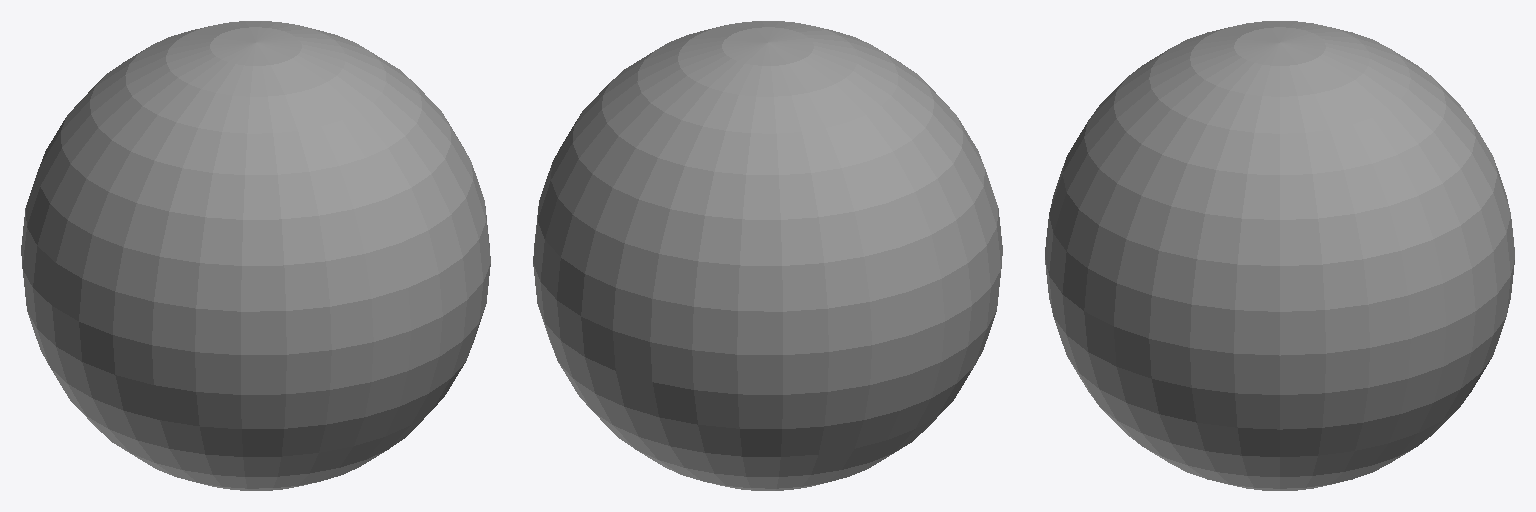
The model's file is theworld.obj.
The picture shows the model from 3 angles: view 1: azimuth 30°, elevation 25°; view 2: azimuth 150°, elevation 25°; view 3: azimuth 270°, elevation 25°; orthographic projection.
Parts seen in each view (by area): view 1: Sphere; view 2: Sphere; view 3: Sphere.
Boxes of the visible parts, x1,y1,x2,y2 form: Sphere: [21, 21, 490, 490]; Sphere: [533, 21, 1002, 490]; Sphere: [1045, 21, 1514, 490].
Bounding box in the file's own units: 2 × 2 × 2.